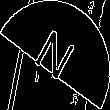N_SW: (30, 23, 80, 87)
